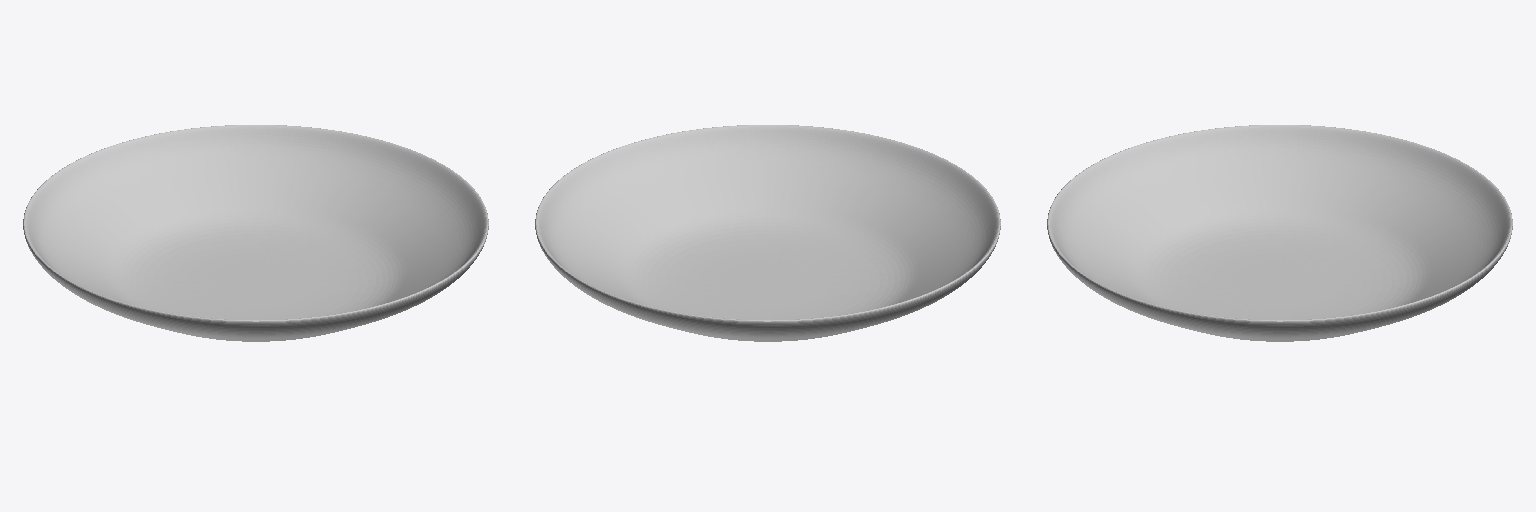
File: plate.obj
3 views of the same model, side by side, from view 1: azimuth 30°, elevation 25°; view 2: azimuth 150°, elevation 25°; view 3: azimuth 270°, elevation 25° (orthographic).
Parts seen in each view (by area): view 1: Plate.005; view 2: Plate.005; view 3: Plate.005.
Boxes of the visible parts, x1,y1,x2,y2 form: Plate.005: [23, 125, 488, 341]; Plate.005: [535, 125, 1000, 341]; Plate.005: [1047, 125, 1512, 341].
Size of the model in its own units: 1.39 by 0.22 by 1.39.